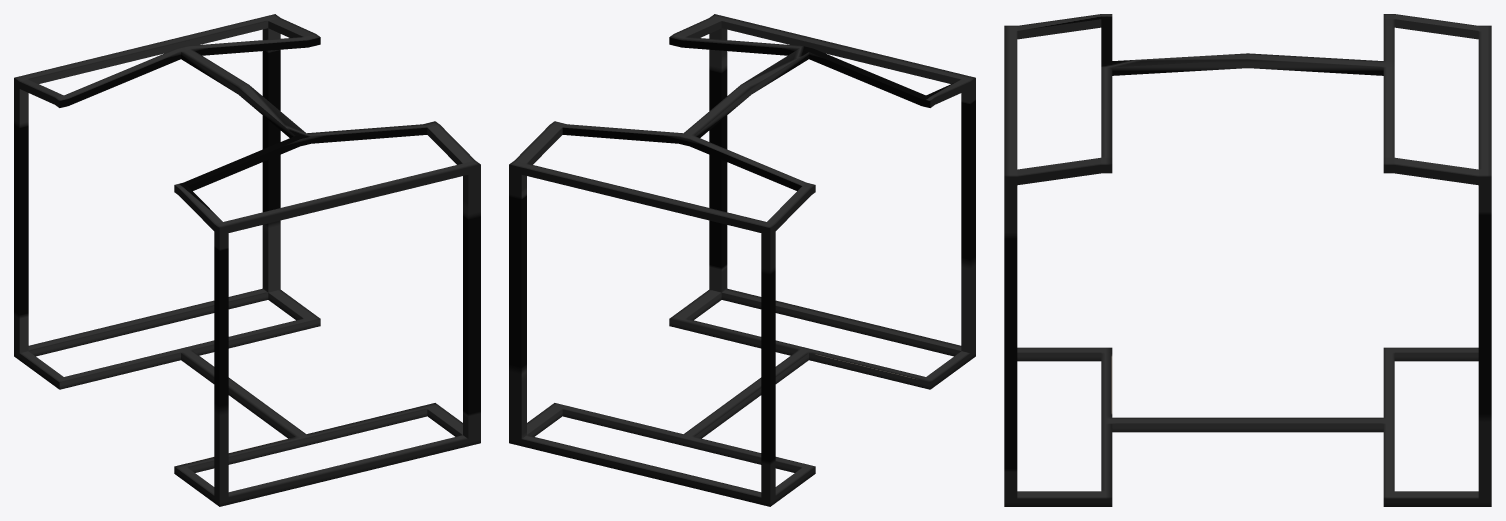
Rendered from evacuator_part.FBX.
The picture shows the model from 3 angles, left to right: view 1: azimuth 30°, elevation 25°; view 2: azimuth 150°, elevation 25°; view 3: azimuth 270°, elevation 25°; orthographic projection. The views are drawn at different scales.
Parts seen in each view (by area): view 1: Box130, Object011; view 2: Box130, Object011; view 3: Box130, Object011.
Part boxes in pixels (bbox=[...]): Box130: bbox=[14, 14, 480, 388]; Object011: bbox=[14, 143, 480, 506]; Box130: bbox=[509, 14, 975, 421]; Object011: bbox=[509, 159, 975, 506]; Box130: bbox=[1004, 14, 1491, 438]; Object011: bbox=[1004, 326, 1491, 506].
Bounding box in the file's own units: 27.8 × 32.01 × 37.9.
